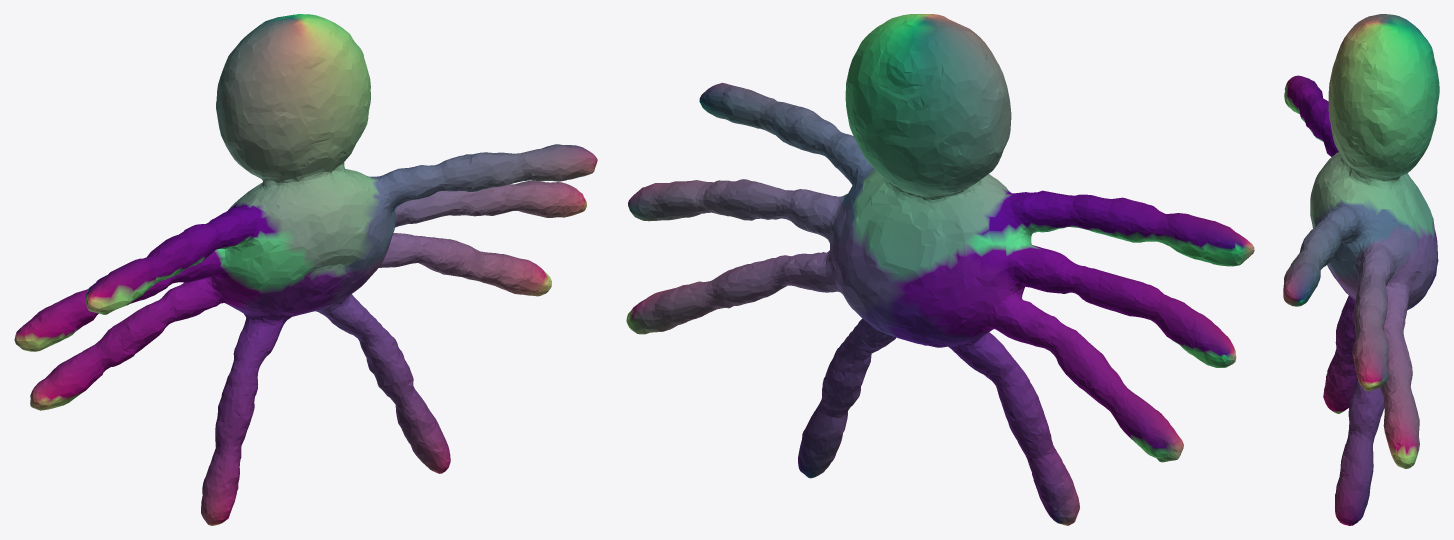
Rendered from spider-16.off.obj.
3 views of the same model, side by side, from view 1: azimuth 30°, elevation 25°; view 2: azimuth 150°, elevation 25°; view 3: azimuth 270°, elevation 25° (orthographic). The views are drawn at different scales.
Bounding box in the file's own units: 1.77 × 1.4 × 0.4472.
